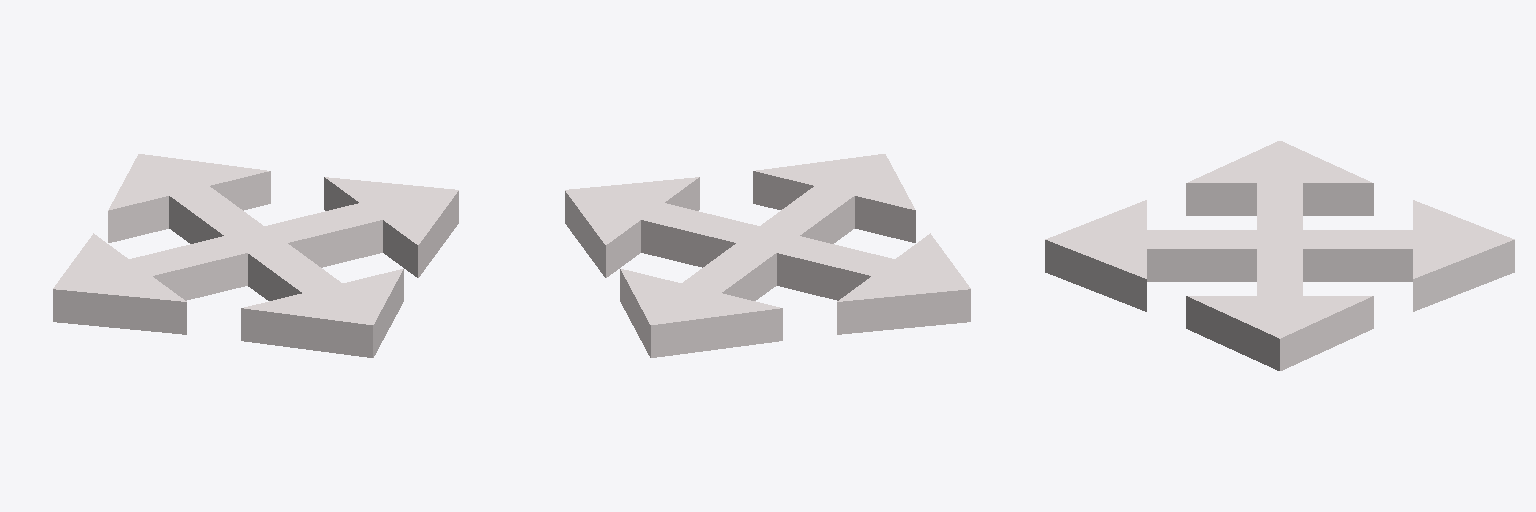
Rendered from arrow44.obj.
The picture shows the model from 3 angles: view 1: azimuth 30°, elevation 25°; view 2: azimuth 150°, elevation 25°; view 3: azimuth 270°, elevation 25°; orthographic projection.
Parts seen in each view (by area): view 1: Mesh_; view 2: Mesh_; view 3: Mesh_.
Part boxes in pixels (x1,y1,x2,y2): Mesh_: (53, 154, 458, 357); Mesh_: (565, 154, 970, 357); Mesh_: (1045, 141, 1514, 370).
Size of the model in its own units: 14.44 by 1.12 by 14.44.